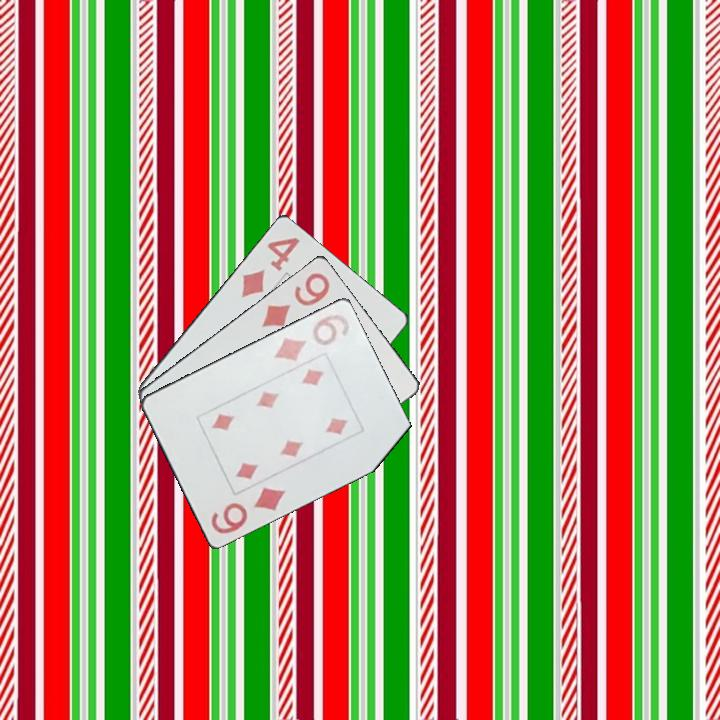4d: (237, 232, 303, 300)
6d: (207, 483, 289, 538), (270, 310, 353, 364)
9d: (257, 268, 334, 330)
